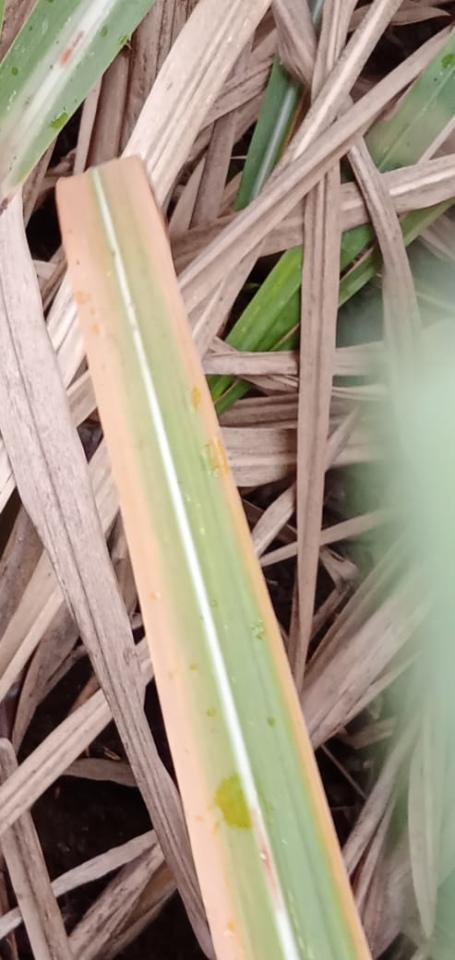RedRot: (251, 808, 280, 908)
Yellow: (96, 153, 372, 959), (54, 173, 252, 959)
